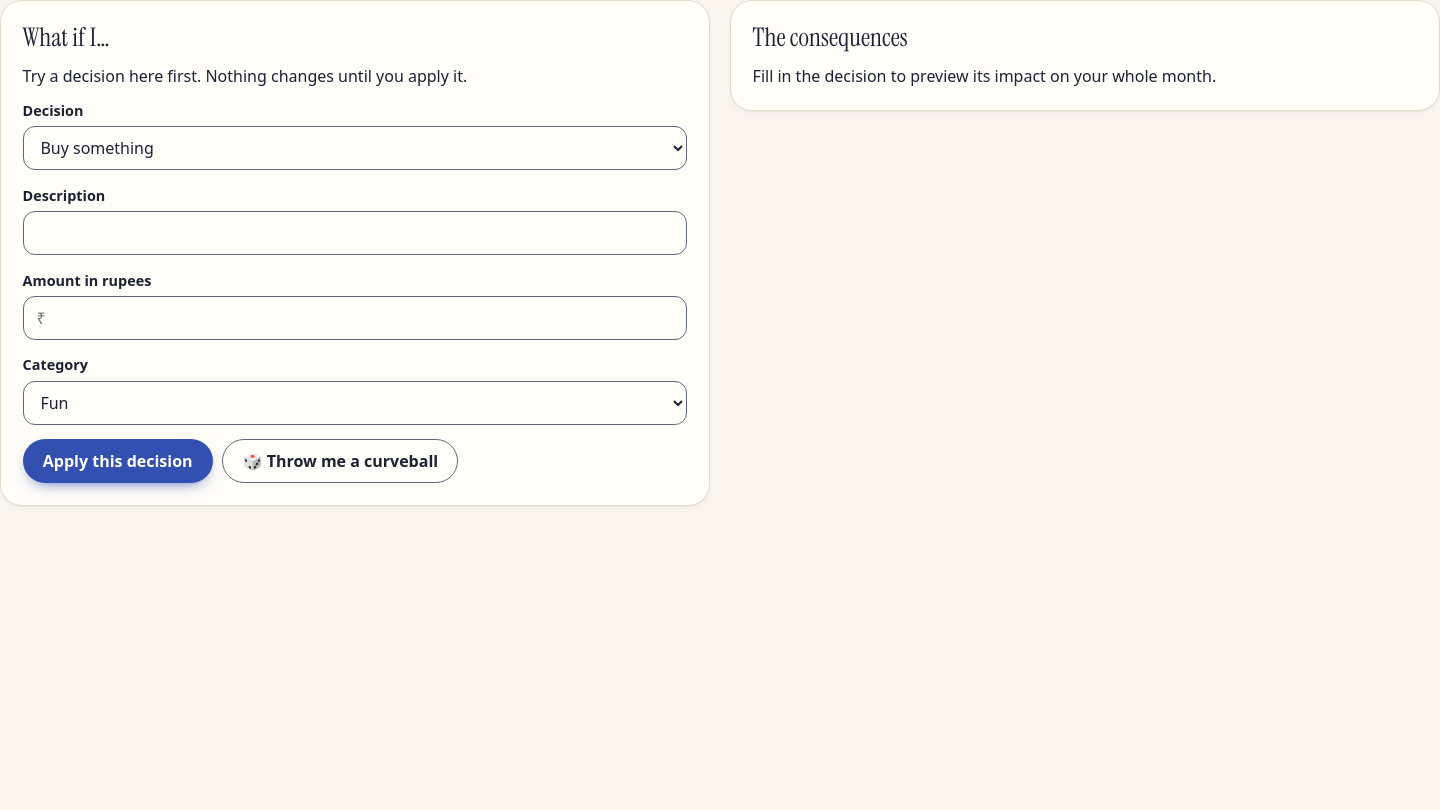
Simulator view › throws a curveball as an unexpected expense to review
Click the button "🎲 Throw me a curveball": (340, 461) [222,439,458,483]
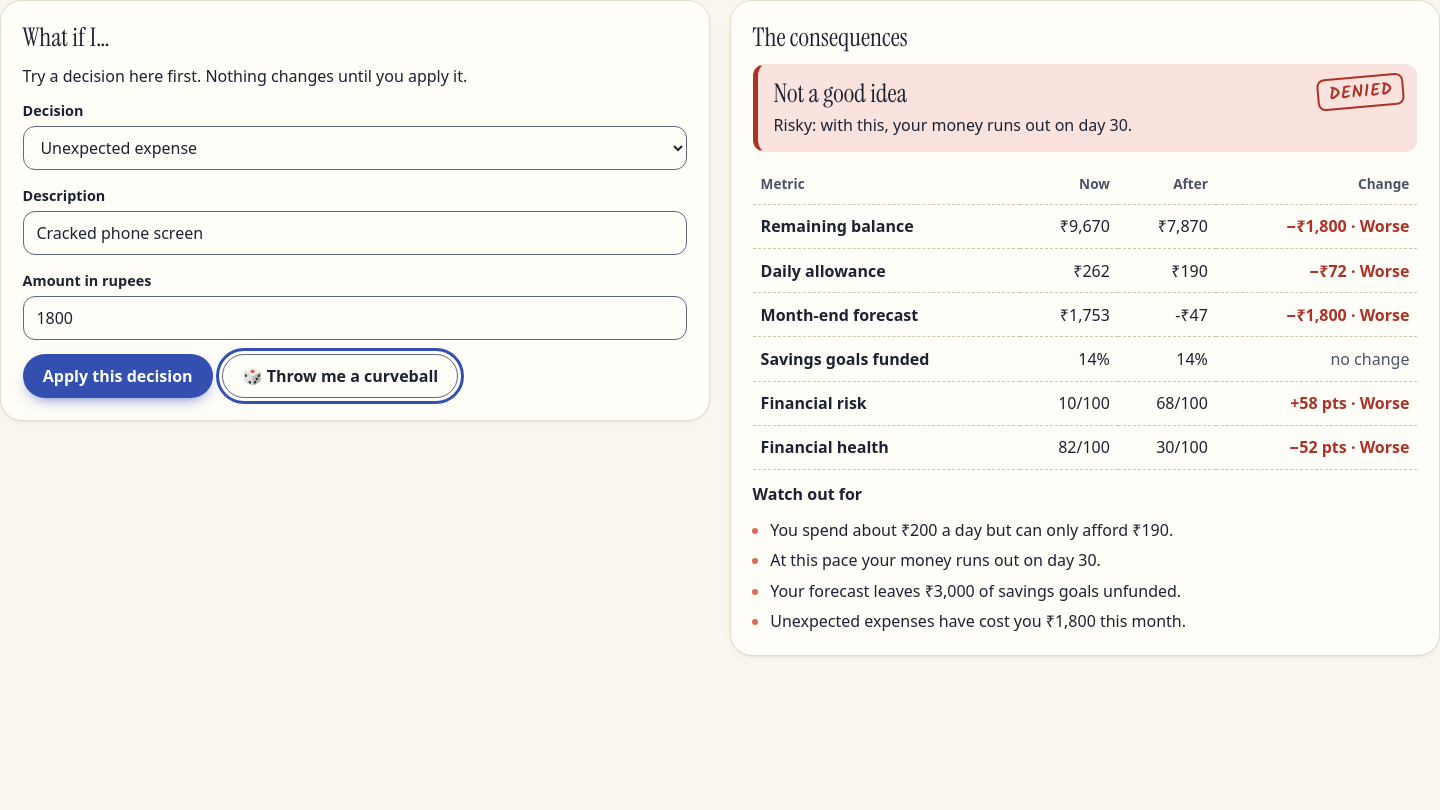
expect the dropdown labelled "Decision" shows "Unexpected expense": met, box [23,126,687,170]
expect the field labelled "Description" holds "Cracked phone screen": met, box [23,211,687,255]
expect the field labelled "Amount in rupees" holds "1800": met, box [23,296,687,340]
